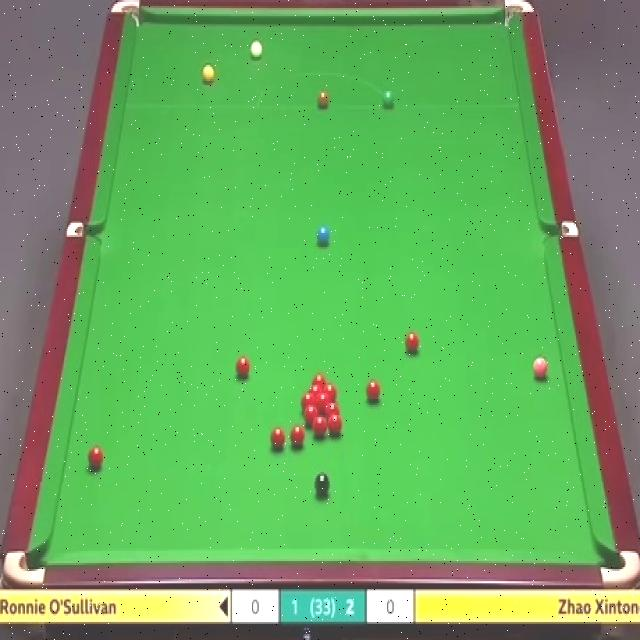black-ball: (314, 470, 330, 500)
blue-ball: (316, 225, 331, 247)
brown-ball: (316, 89, 329, 109)
green-ball: (382, 89, 395, 109)
pink-ball: (533, 354, 548, 380)
red-ball: (234, 354, 252, 382), (289, 423, 306, 451), (87, 445, 104, 472), (268, 425, 286, 450), (327, 414, 343, 438), (406, 330, 420, 355), (366, 378, 380, 402), (313, 416, 327, 439), (322, 382, 338, 402), (304, 404, 318, 426), (314, 391, 330, 410), (300, 391, 314, 409), (326, 404, 340, 417), (307, 384, 323, 394), (312, 374, 327, 384)
white-ball: (249, 41, 262, 62)
yellow-ball: (202, 64, 216, 85)
